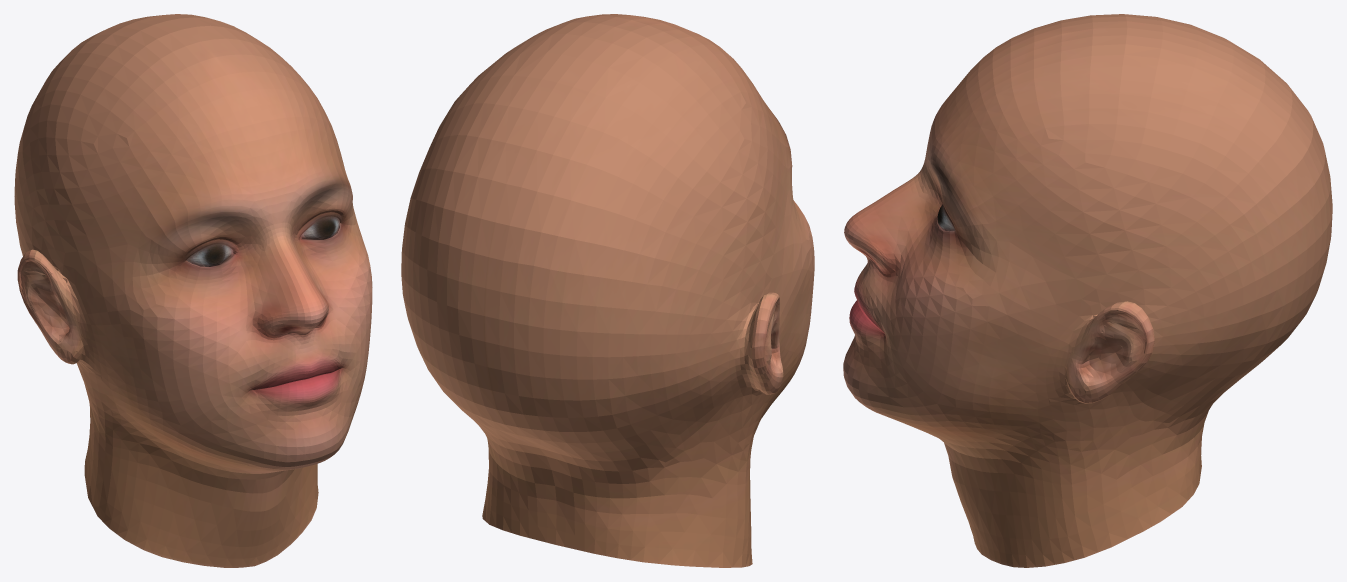
The picture shows the model from 3 angles, left to right: view 1: azimuth 30°, elevation 25°; view 2: azimuth 150°, elevation 25°; view 3: azimuth 270°, elevation 25°; orthographic projection. The views are drawn at different scales.
Parts seen in each view (by area): view 1: skin_hi, eyeR_hi, eyeL_hi; view 2: skin_hi; view 3: skin_hi.
Boxes of the visible parts, bbox=[...] form: skin_hi: bbox=[14, 14, 372, 567]; eyeR_hi: bbox=[186, 244, 233, 266]; eyeL_hi: bbox=[300, 216, 339, 239]; skin_hi: bbox=[401, 14, 814, 567]; skin_hi: bbox=[843, 14, 1332, 567].
Bounding box in the file's own units: 189 × 280 × 241.
Materials: 7 (7 with a texture image).
